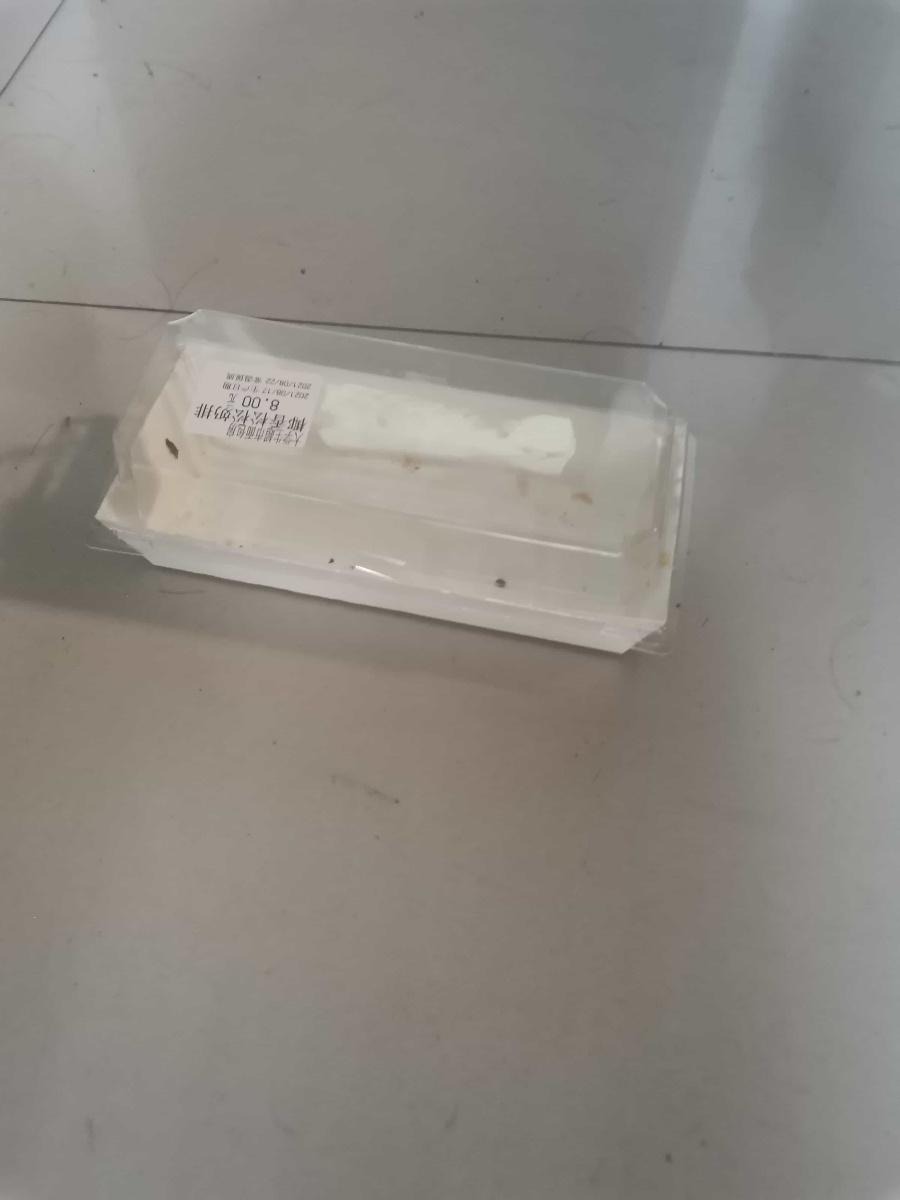cake box: (77, 299, 711, 678)
